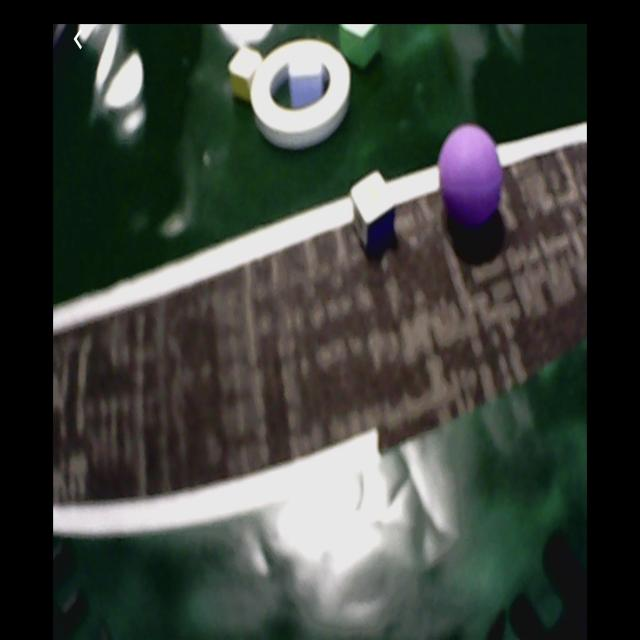ball: (440, 125, 503, 224)
